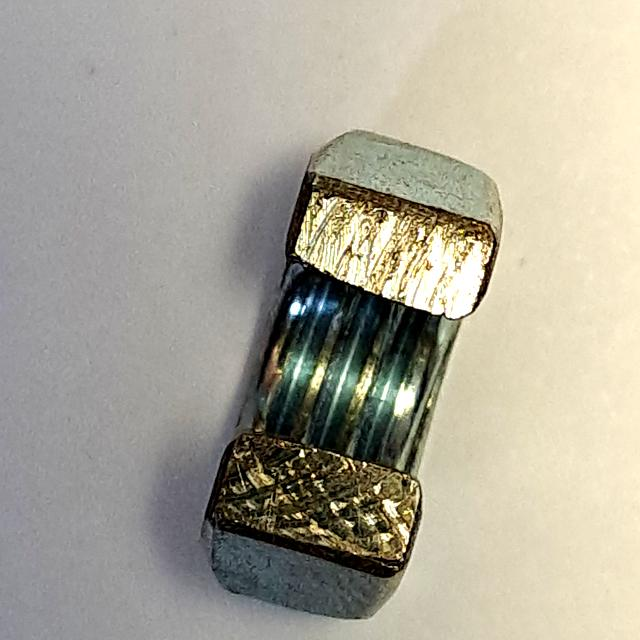Side-Fracture: (190, 122, 516, 639)
